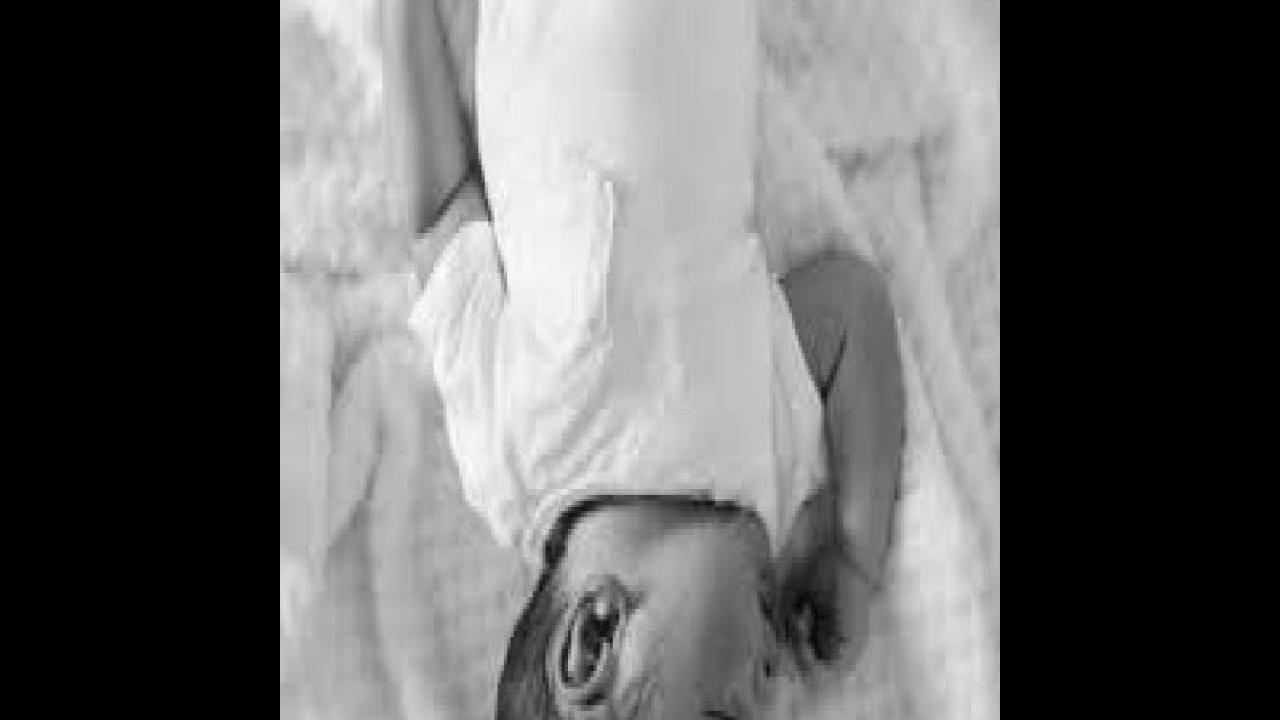hand: (790, 540, 872, 700)
